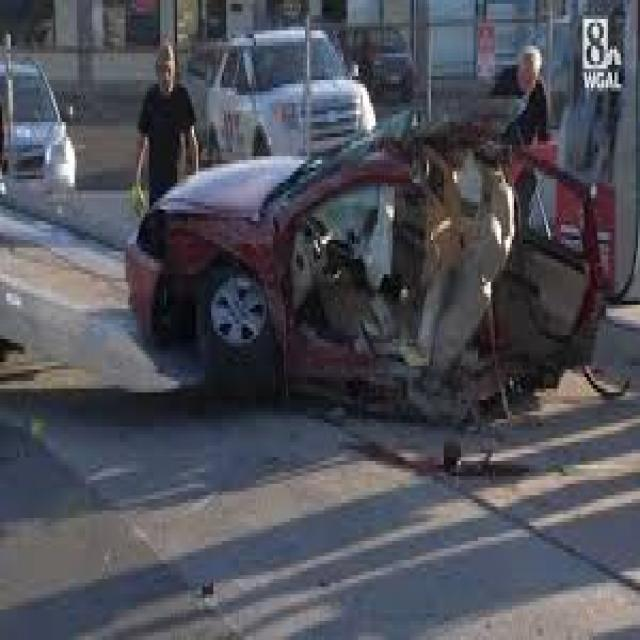accident: (131, 128, 608, 460)
